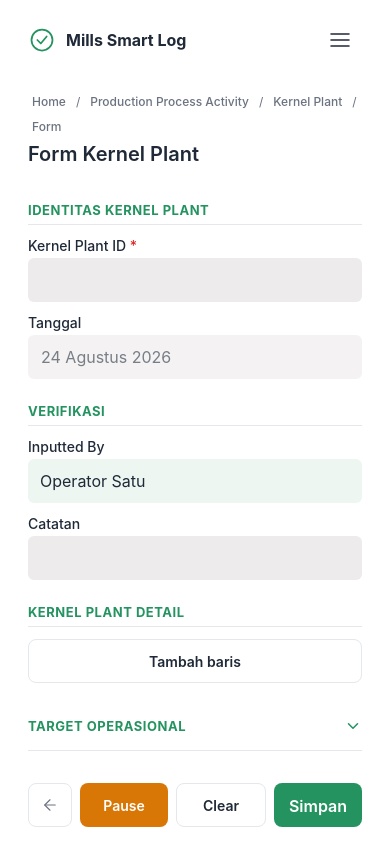
Scenario: FormKernelPlantView › shows inline error and does not save when Kernel Plant ID is empty on Simpan
Click the button with test id "save-button".
click(318, 805)  # box [274,783,362,827]
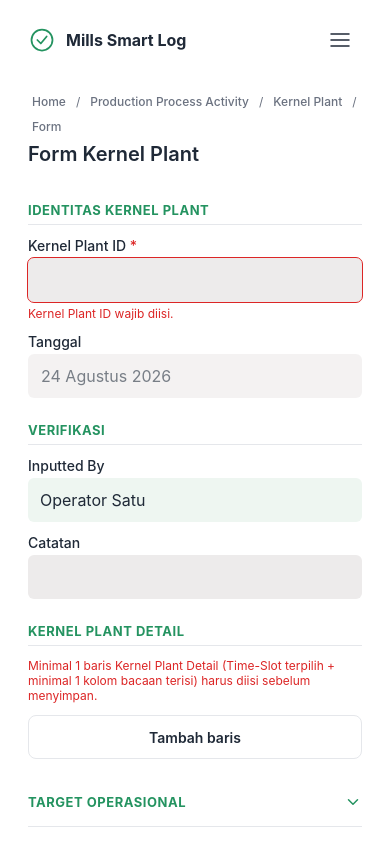
Result: the text "Kernel Plant ID wajib diisi" is shown at [28,306,174,321]
